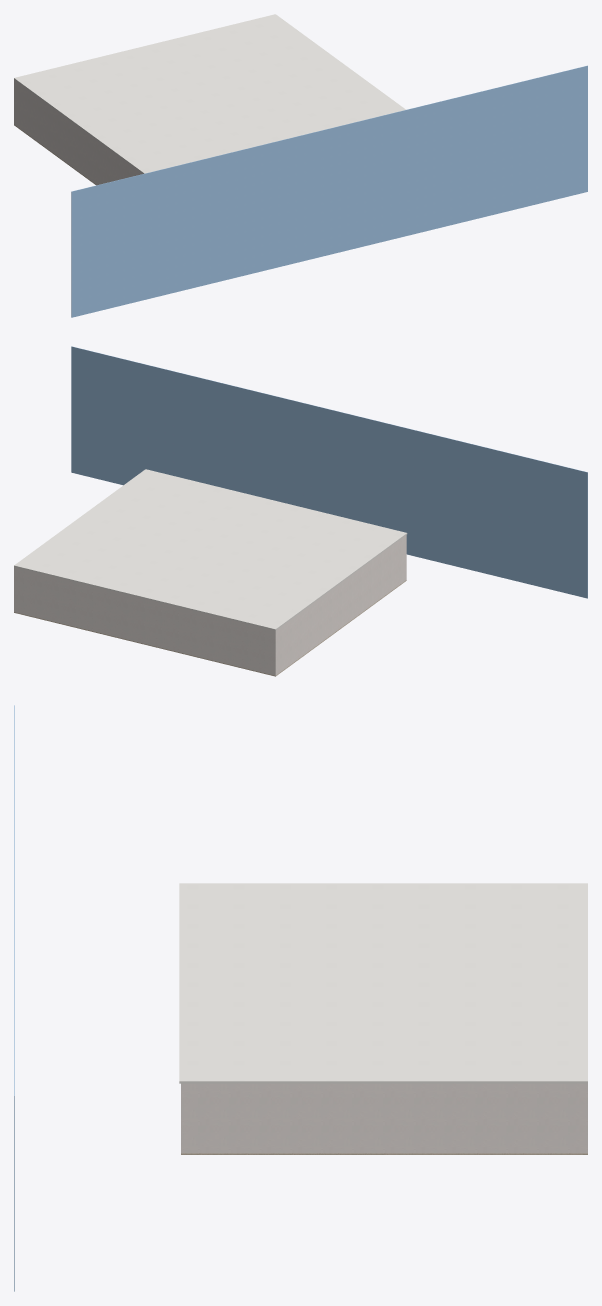
The model's file is interior.glb.
The picture shows the model from 3 angles, top to bottom: view 1: azimuth 30°, elevation 25°; view 2: azimuth 150°, elevation 25°; view 3: azimuth 270°, elevation 25°; orthographic projection. The views are drawn at different scales.
Visible parts, largest first — view 1: Sky_Front, Ceiling, Threads_IN_WallMain; view 2: Sky_Front, Ceiling, Threads_IN_WallMain, House_Floor_Threads; view 3: Ceiling, Threads_IN_WallMain, House_Floor_Threads.
Boxes of the visible parts, bbox=[...] form: Sky_Front: bbox=[71, 65, 587, 317]; Ceiling: bbox=[14, 14, 405, 173]; Threads_IN_WallMain: bbox=[14, 79, 142, 185]; Sky_Front: bbox=[71, 346, 587, 598]; Ceiling: bbox=[14, 469, 407, 630]; Threads_IN_WallMain: bbox=[14, 535, 406, 675]; House_Floor_Threads: bbox=[14, 580, 406, 676]; Ceiling: bbox=[179, 883, 587, 1083]; Threads_IN_WallMain: bbox=[181, 1083, 587, 1153]; House_Floor_Threads: bbox=[181, 1153, 587, 1154].
Bounding box in the file's own units: 60 × 14 × 37.23.
29 materials, 27 textured.
